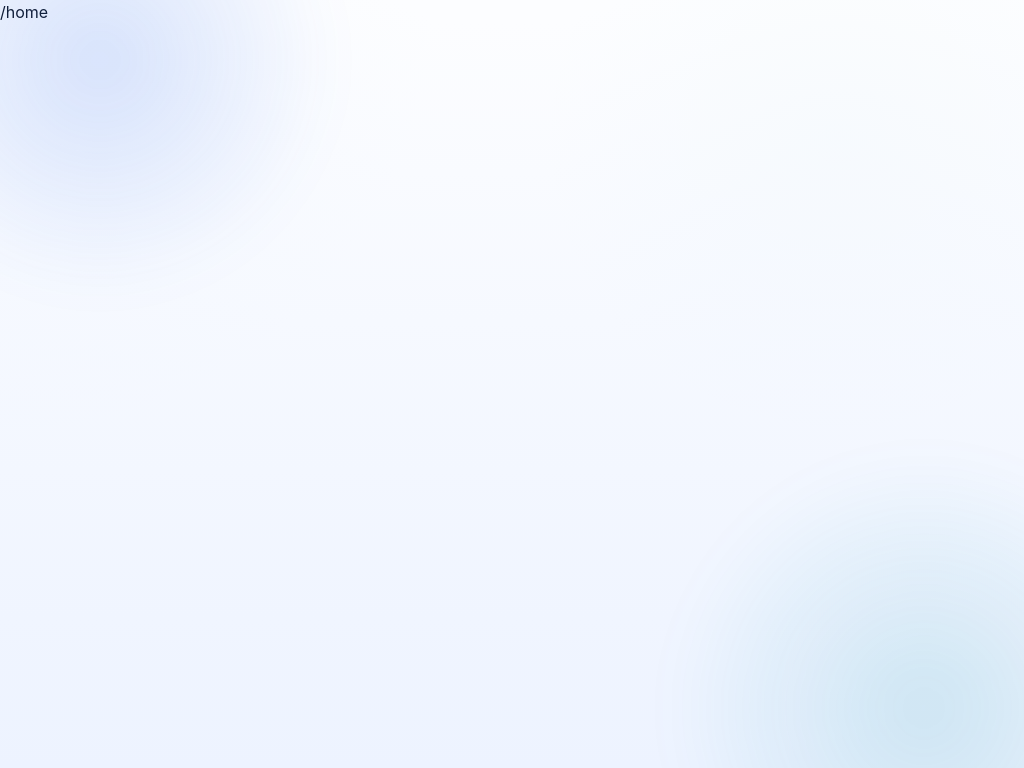
CommandPalette › opens with Ctrl+K and navigates with a command
Type keys "{Control>}k{/Control}"
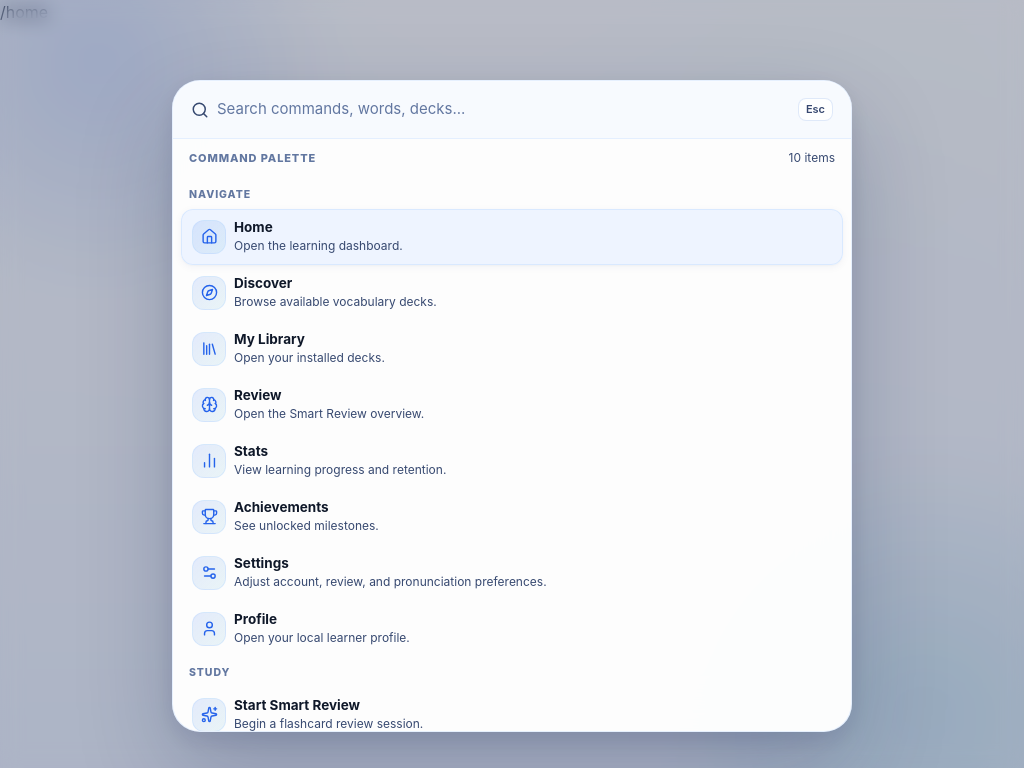
Result: the dialog "Command Palette" is shown at [172,80,852,732]
Click the text "Review". click: (258, 395)
box: [234,387,282,403]
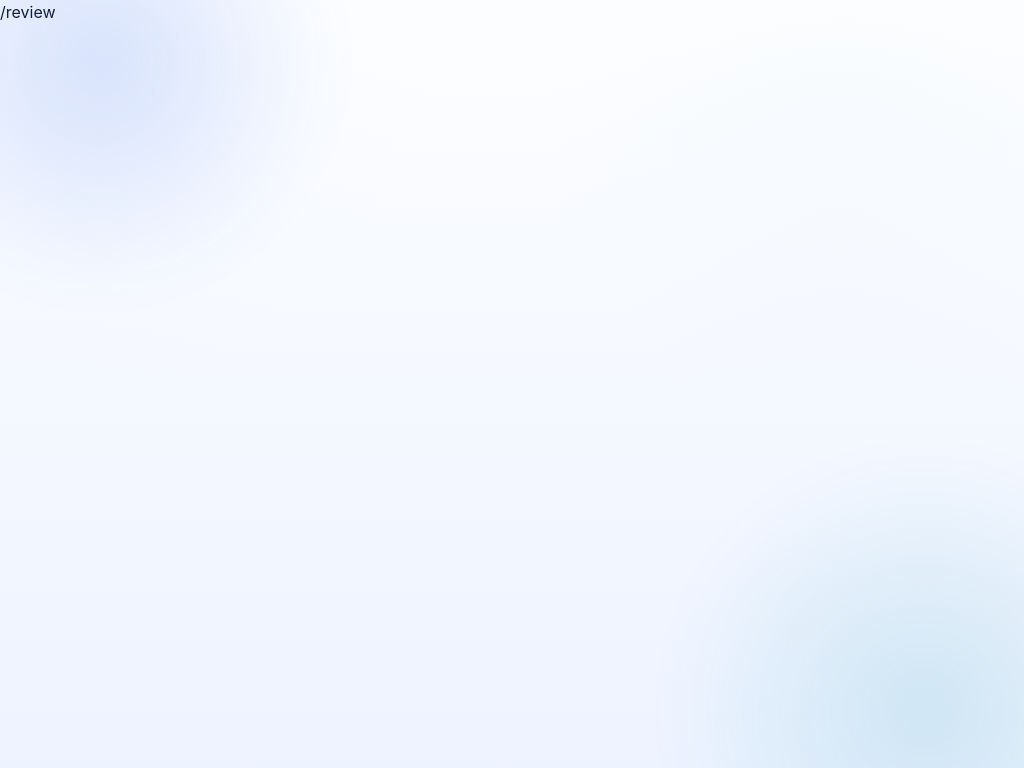
Result: the text with test id "location" reads "/review" at [0,2,56,22]
